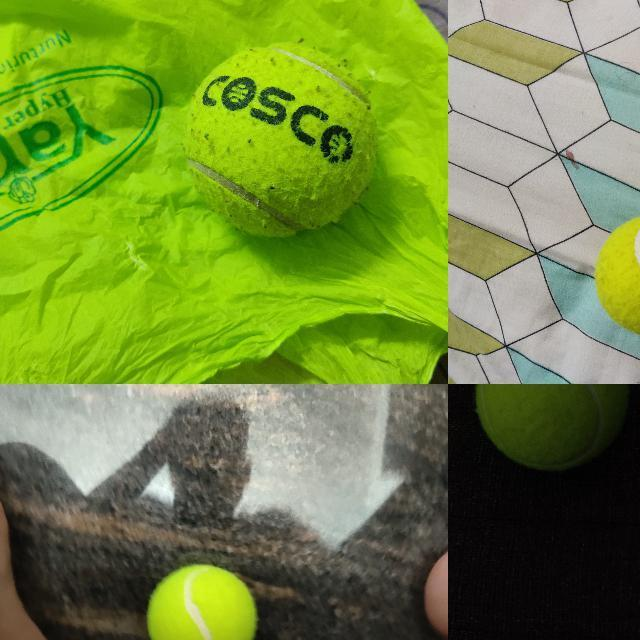tennis-ball: (180, 42, 378, 239), (475, 384, 629, 471), (145, 563, 258, 639), (595, 214, 639, 339)
